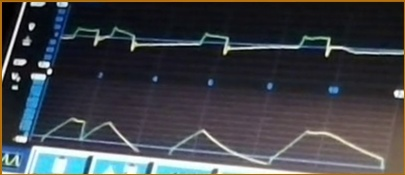Double_Triggering Flow: (65, 11, 370, 70)
Double_Triggering Volume: (41, 103, 375, 167)
